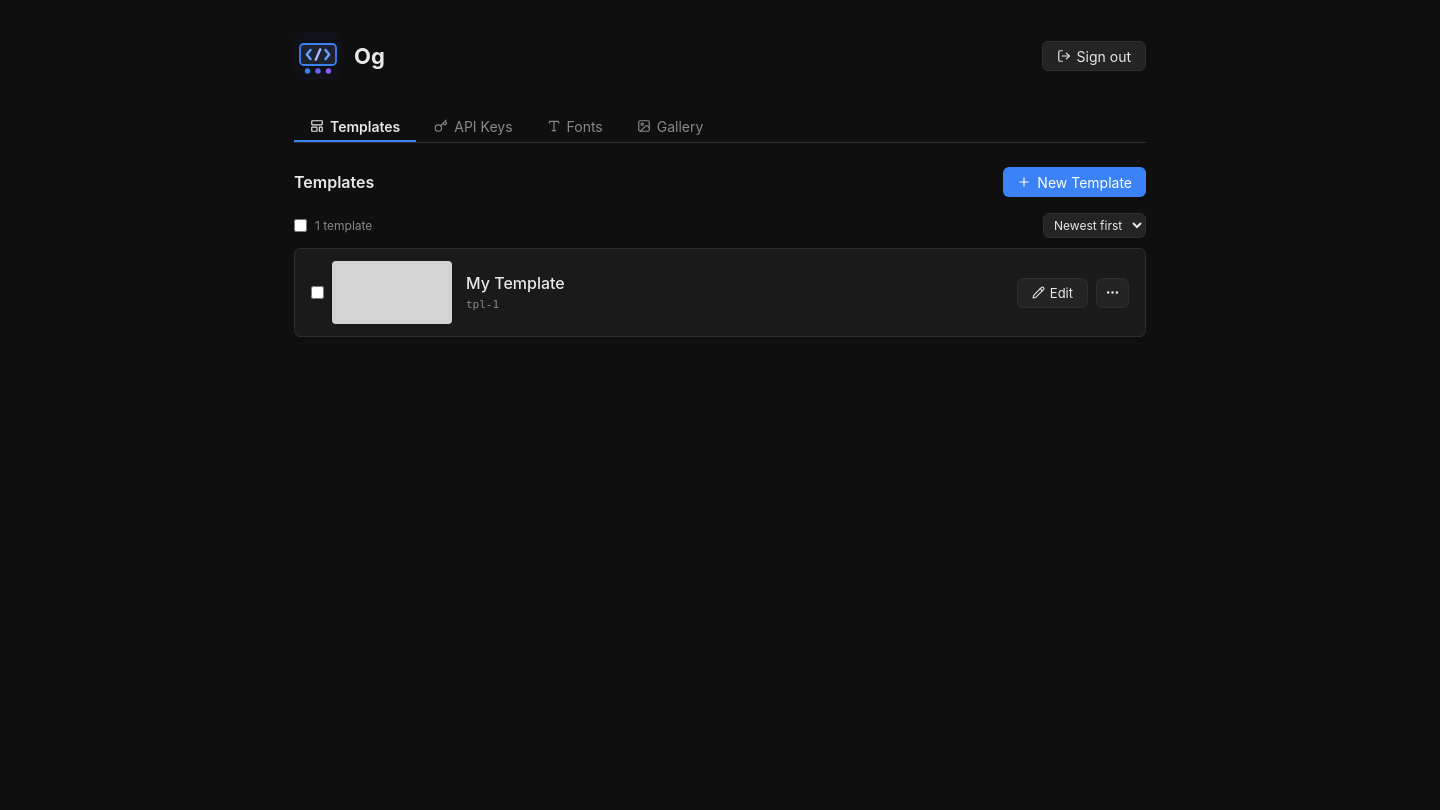
dashboard page › duplicates a template
Click the element with test id "template-actions-tpl-1" at (1112, 292), box [1096,278,1129,308]
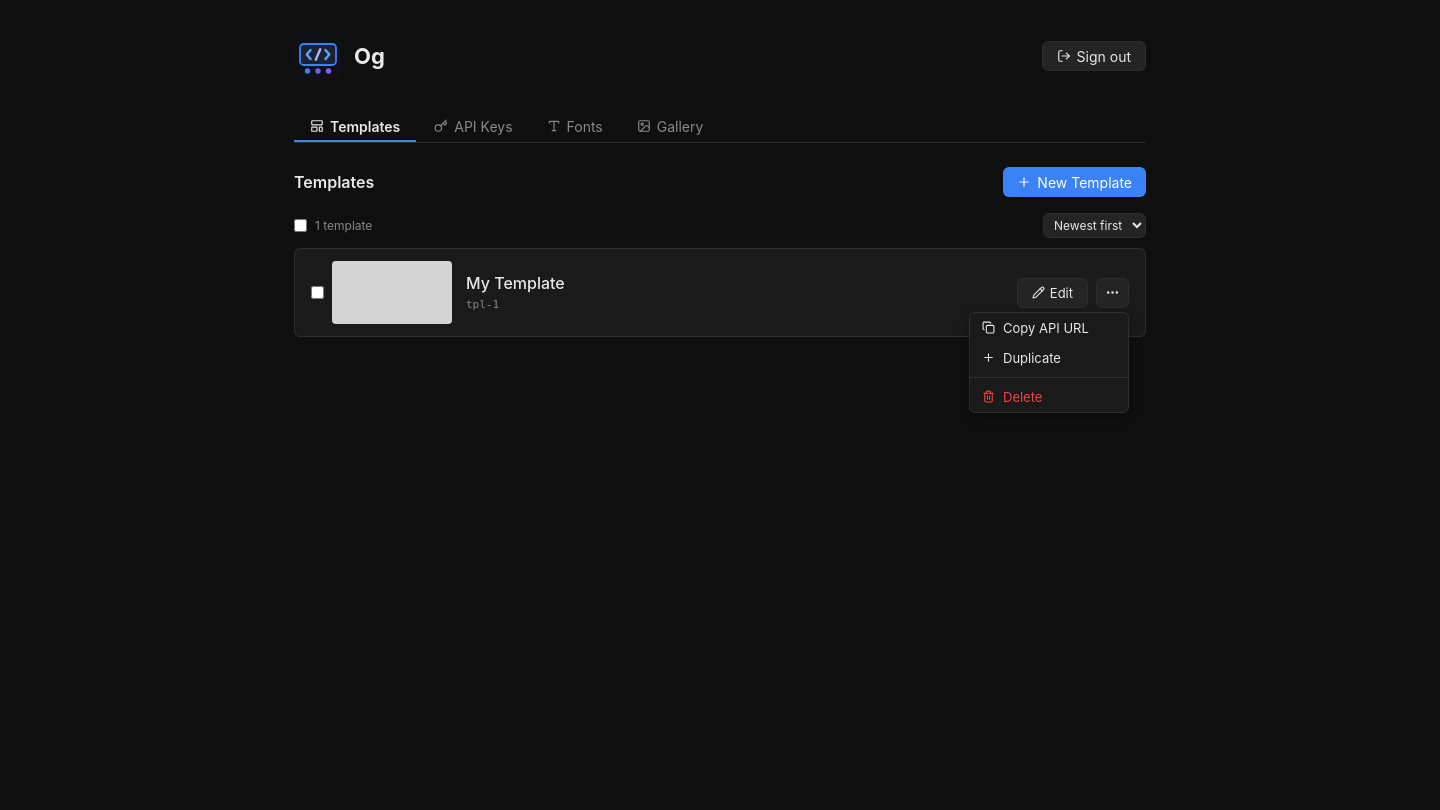
expect the button with test id "duplicate-template-tpl-1" is shown: met
Click the button with test id "duplicate-template-tpl-1" at (1049, 358), box [970,342,1128,372]
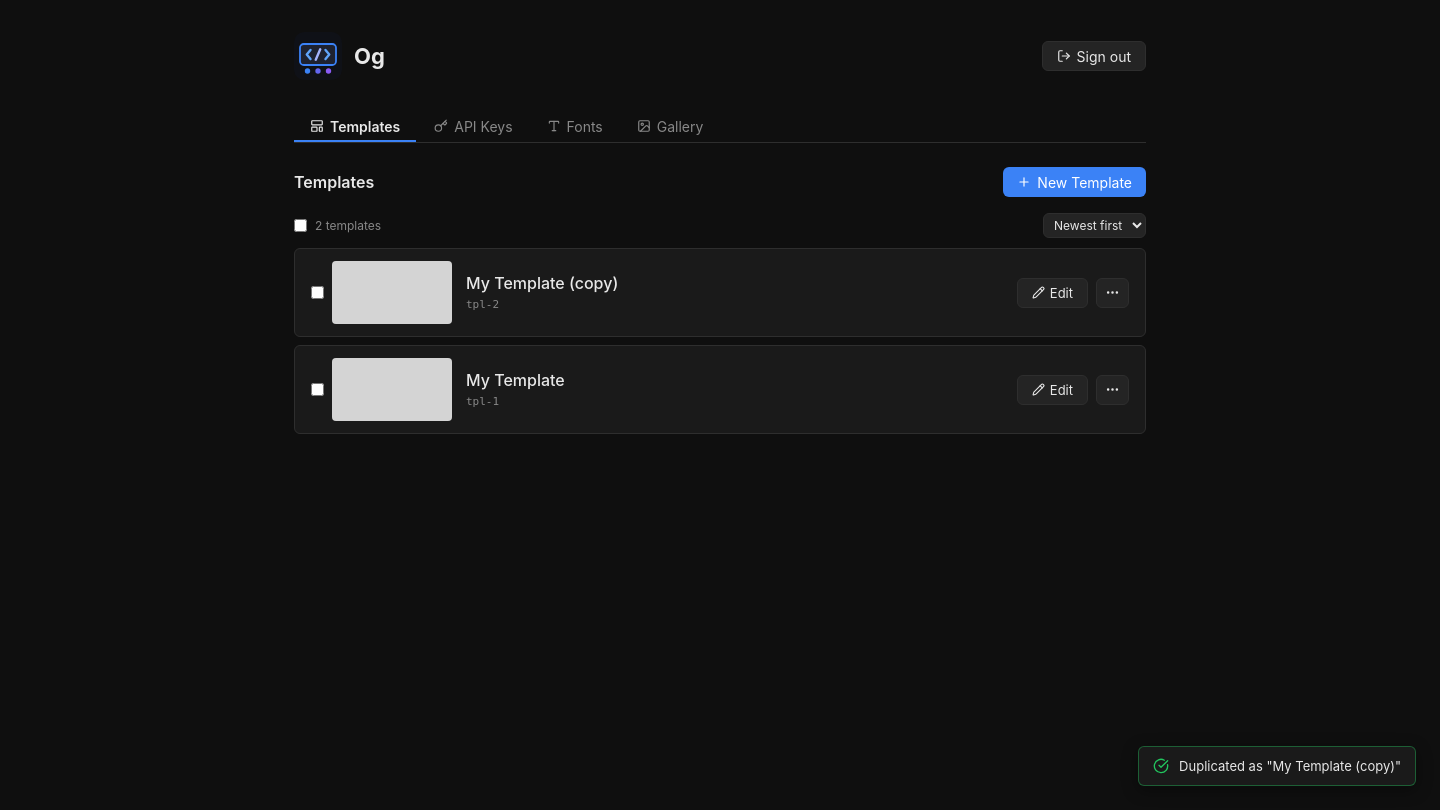
expect the element with test id "template-item-tpl-2" is shown: met, box [294,248,1146,337]
